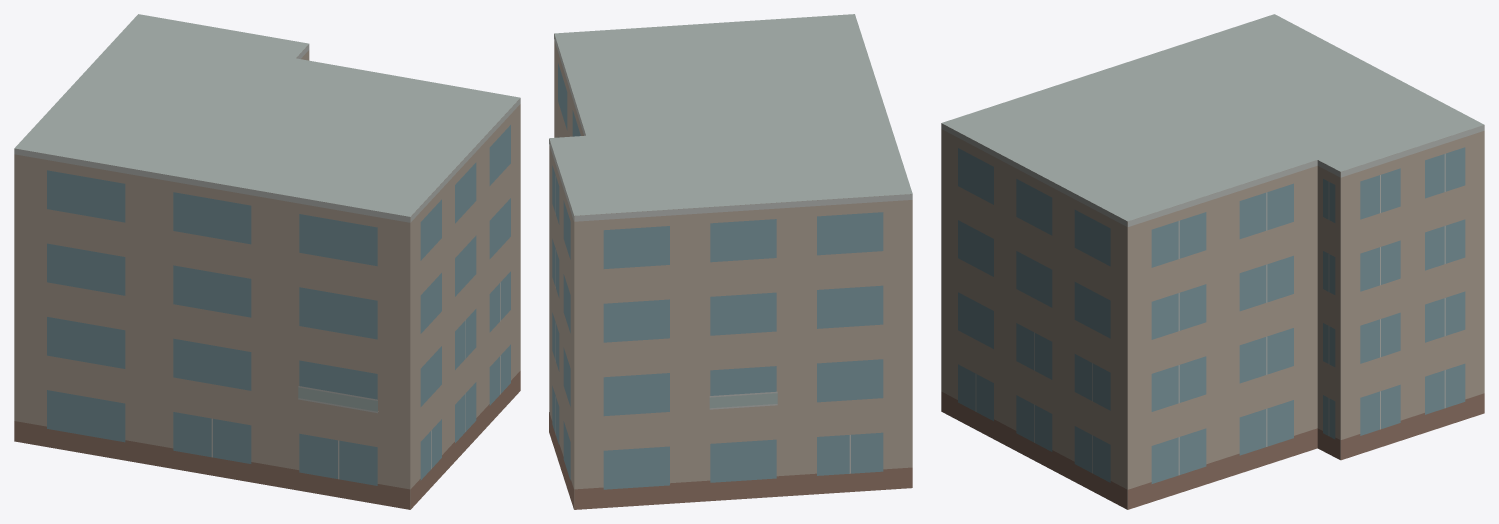
File: survey-upis-33043363.glb
3 renders of one model, left to right at view 1: azimuth 30°, elevation 25°; view 2: azimuth 150°, elevation 25°; view 3: azimuth 270°, elevation 25°, orthographic.
Parts seen in each view (by area): view 1: survey-upis-33043363.tmp; view 2: survey-upis-33043363.tmp; view 3: survey-upis-33043363.tmp.
Part boxes in pixels (bbox=[...]): survey-upis-33043363.tmp: bbox=[14, 14, 520, 509]; survey-upis-33043363.tmp: bbox=[549, 14, 912, 509]; survey-upis-33043363.tmp: bbox=[941, 14, 1484, 509].
Size of the model in its own units: 18.67 by 12.1 by 20.67.
